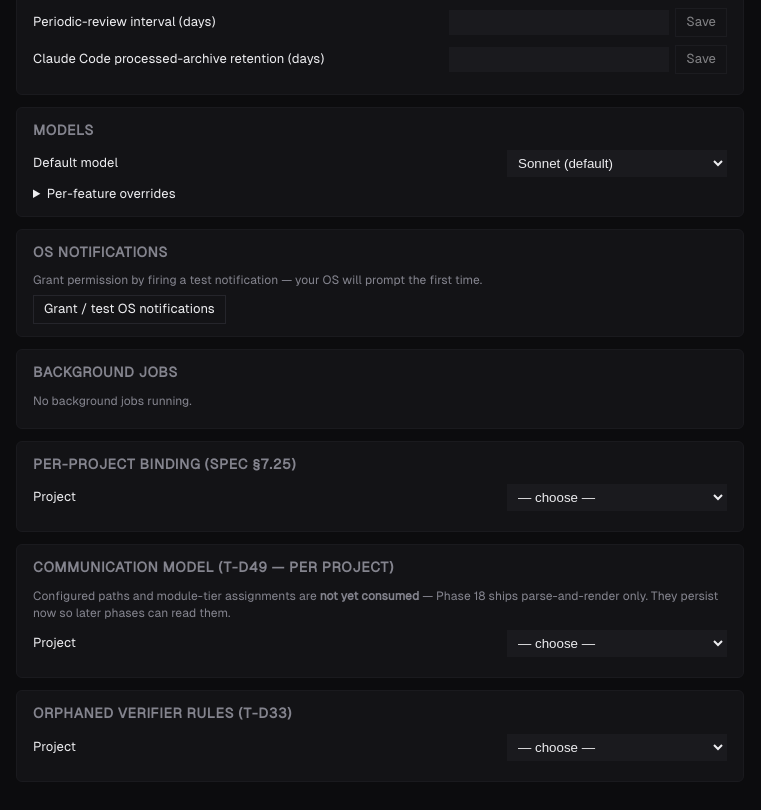
it: Phase 15 — settings panel (SPEC §7.25) › disables the bootstrap-review button when there are no stale rows
(page scrolled)
Select "demo" in the dropdown with test id "project-select" at (617, 498), box [507,484,727,511]
(page scrolled)
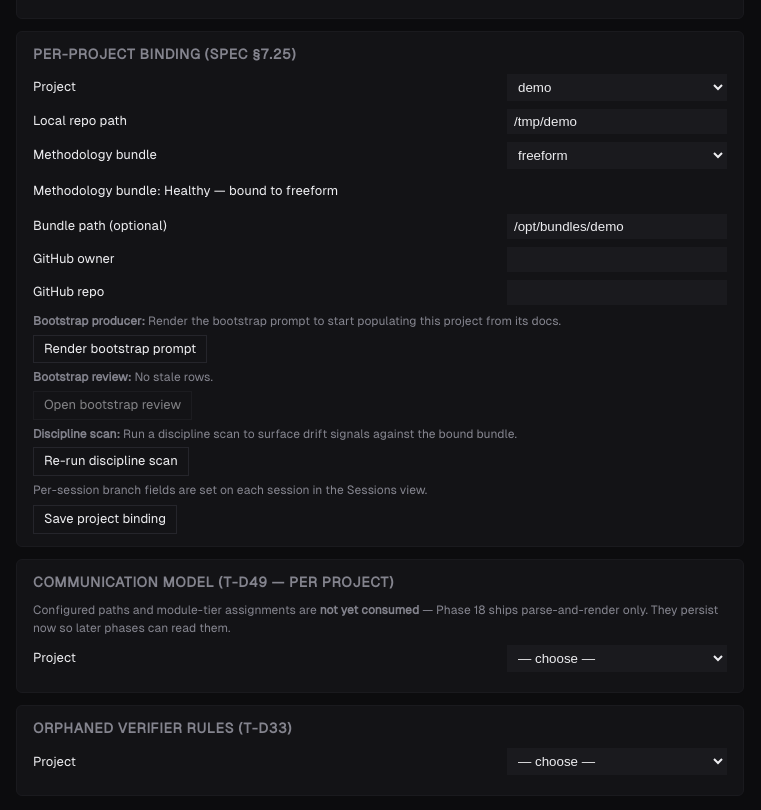
expect the element with test id "bootstrap-review-block" shows "No stale rows": met, box [134,370,213,384]
expect the button with test id "bootstrap-review-open" is disabled: met, box [33,391,192,420]
